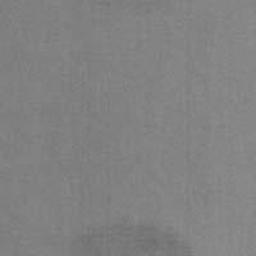Oil spot: (64, 215, 193, 256)
